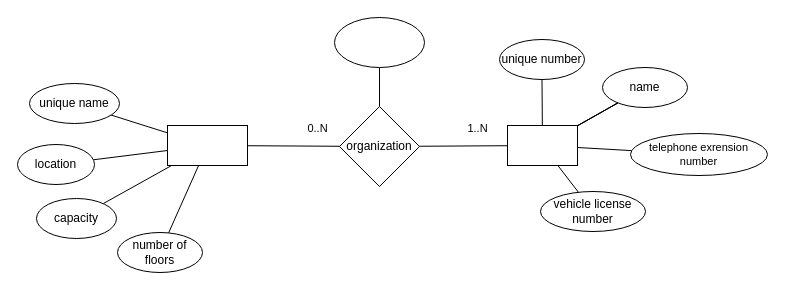
This 785x290 diagram has some shape labels left out. Here are the shapes that lost their labels. From the top down, the centre of each, then its label:
At pixel 379 42: "parking space".
At pixel 207 145: "parking slots".
At pixel 542 145: "staff".
